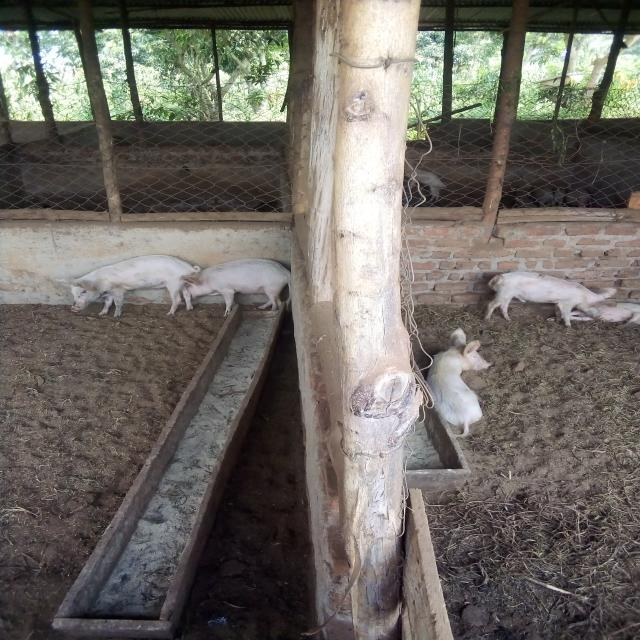pig: (35, 234, 225, 340)
